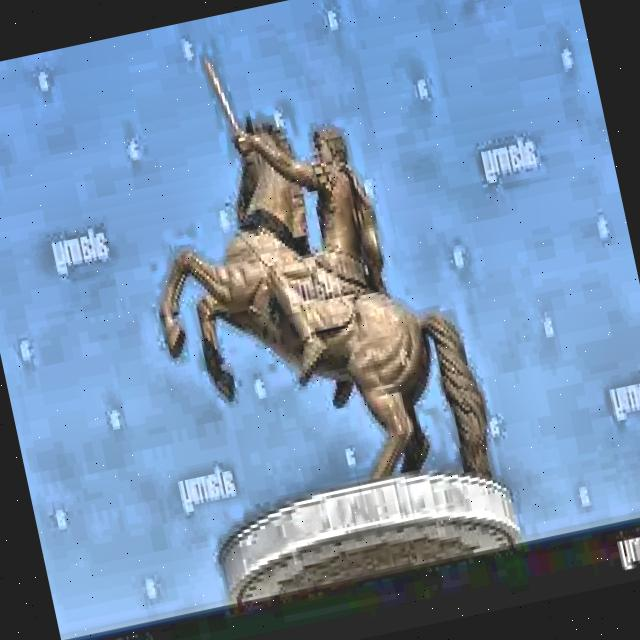alexander the great monument: (111, 10, 518, 602)
